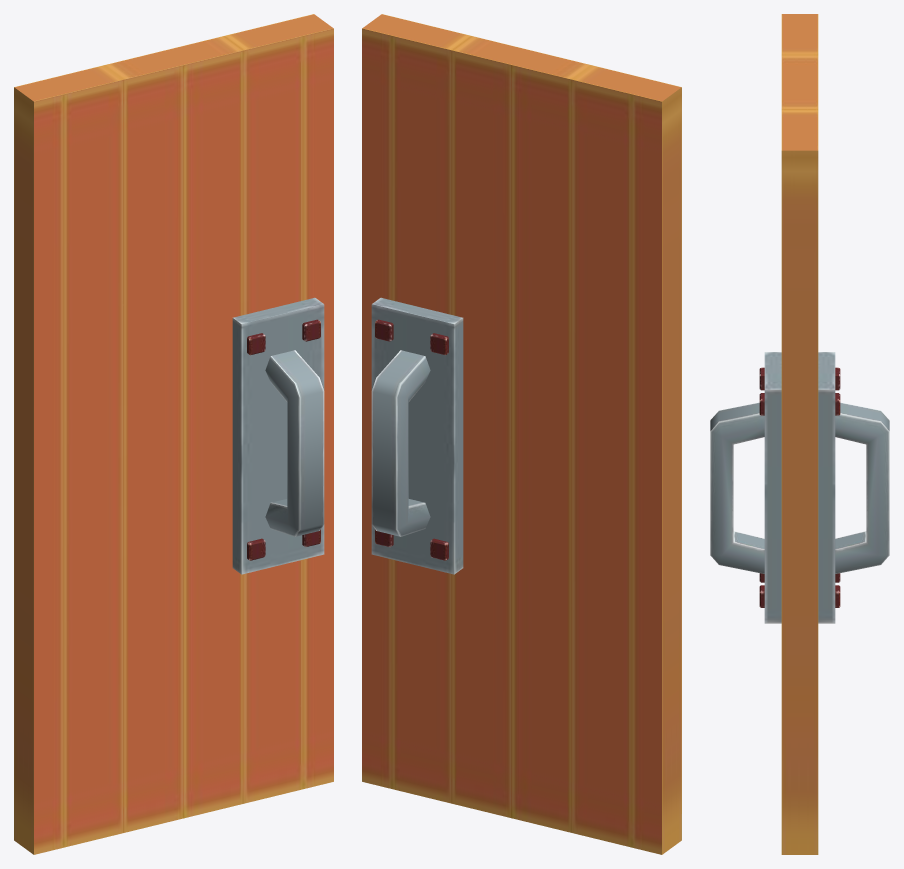
The model's file is door.glb.
The picture shows the model from 3 angles, left to right: view 1: azimuth 30°, elevation 25°; view 2: azimuth 150°, elevation 25°; view 3: azimuth 270°, elevation 25°; orthographic projection. The views are drawn at different scales.
Visible parts, largest first — view 1: Door.001; view 2: Door.001; view 3: Door.001.
Part boxes in pixels (left/top/right/bottom): Door.001: left=14, top=14, right=333, bottom=854; Door.001: left=362, top=14, right=681, bottom=854; Door.001: left=710, top=14, right=889, bottom=854.
Bounding box in the file's own units: 0.875 × 2.1 × 0.4841.
2 materials, 2 textured.
